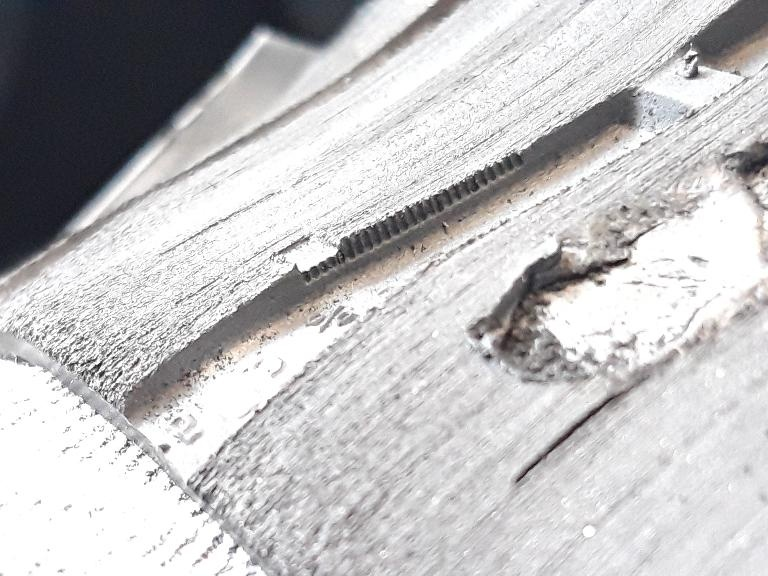temoin:0: (266, 205, 377, 296)
